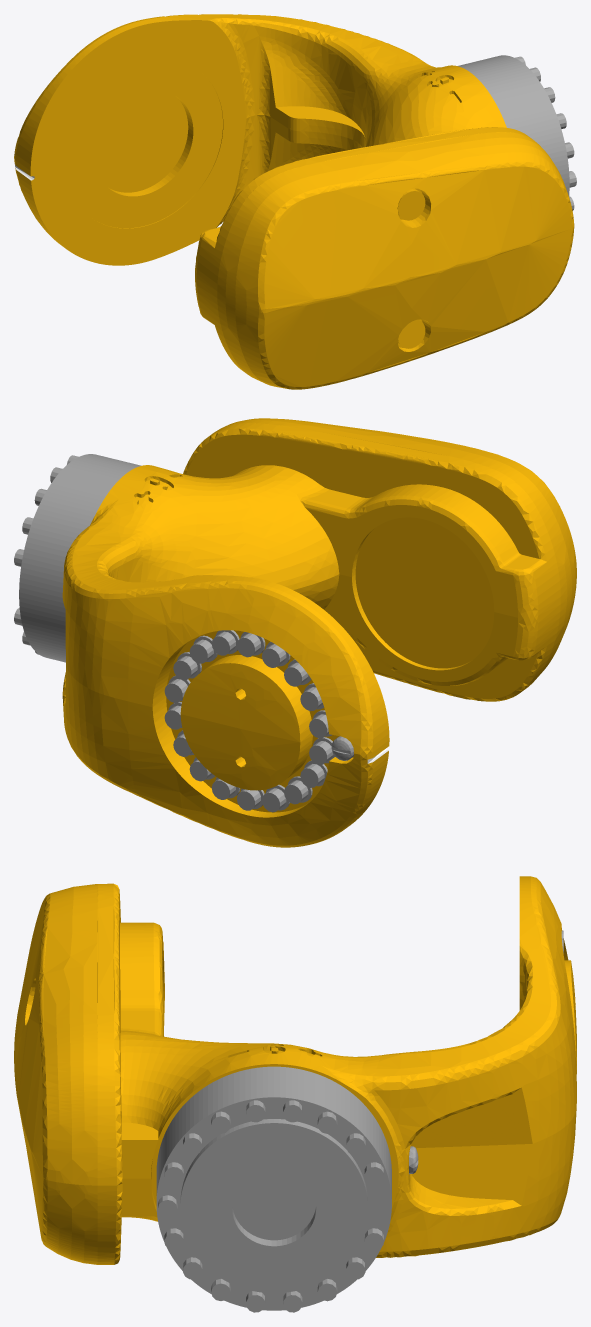
The picture shows the model from 3 angles, top to bottom: view 1: azimuth 30°, elevation 25°; view 2: azimuth 150°, elevation 25°; view 3: azimuth 270°, elevation 25°; orthographic projection. The views are drawn at different scales.
Visible parts, largest first — view 1: A5.001; view 2: A5.001; view 3: A5.001.
Part boxes in pixels (x1,y1,x2,y2): A5.001: (14, 14, 576, 389); A5.001: (14, 418, 576, 847); A5.001: (14, 876, 576, 1312).
Size of the model in its own units: 20.08 by 11.5 by 20.2.
